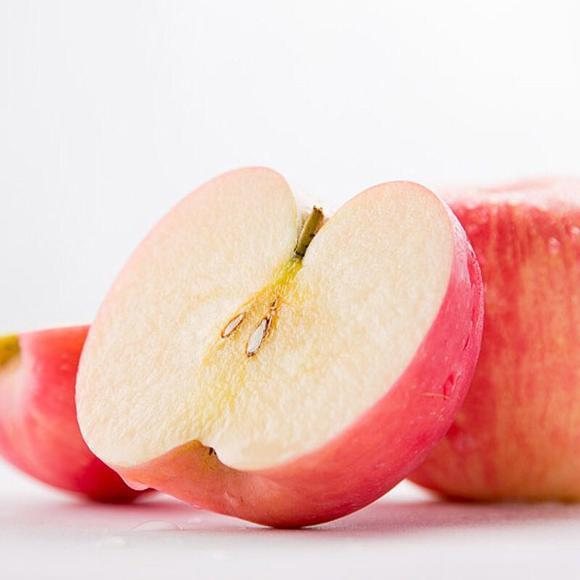apple: (410, 179, 579, 506), (0, 340, 137, 506)
